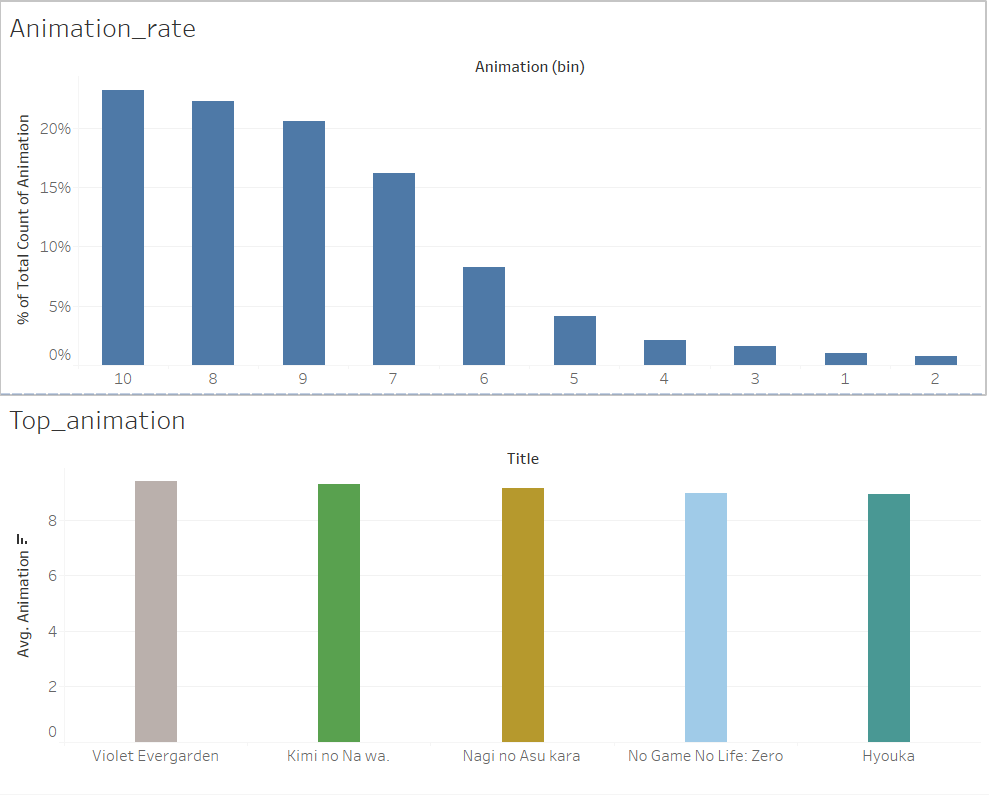

The page's visual inventory and layout, read from the dashboard file:
{"tool":"tableau","page":{"name":"Animation_dashboard","canvas":[1000,800],"ordinal":0},"visuals":[{"type":"worksheet","title":"Rate","mark":"Automatic","rows":["Animation"],"cols":["Animation (bin)"],"box":[8,8,984,392]},{"type":"worksheet","title":"Top_animation","mark":"Automatic","rows":["Animation"],"cols":["title"],"box":[8,400,984,392]}]}

Visuals, with their boxes in screenshot pixels (x1, y1, x2, y2), scaled from the page's 1000x800 canvas onto the 989x795 screenshot:
"Rate" worksheet: select_region(8, 8, 981, 398)
"Top_animation" worksheet: select_region(8, 398, 981, 787)
